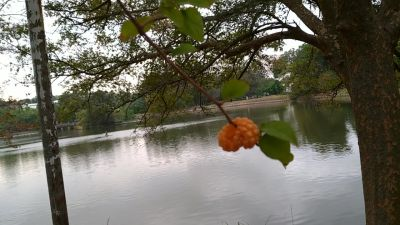eggs: (217, 116, 261, 154)
